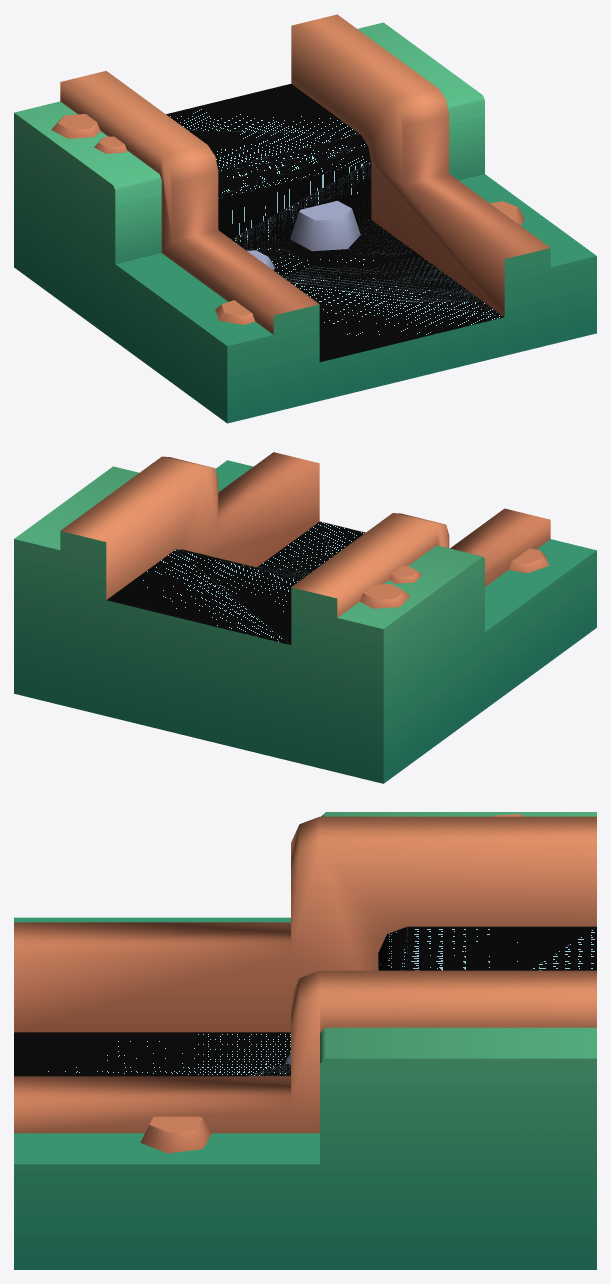
File: kenney-tower-defense-tile-river-waterfall.glb
3 views of the same model, one above another, from view 1: azimuth 30°, elevation 25°; view 2: azimuth 150°, elevation 25°; view 3: azimuth 270°, elevation 25° (orthographic). The views are drawn at different scales.
Parts seen in each view (by area): view 1: tile-river-waterfall; view 2: tile-river-waterfall; view 3: tile-river-waterfall.
Boxes of the visible parts, x1,y1,x2,y2 form: tile-river-waterfall: (14, 14, 596, 423); tile-river-waterfall: (14, 452, 596, 783); tile-river-waterfall: (14, 812, 596, 1269).
Size of the model in its own units: 1 by 0.45 by 1.
Materials: 1 (1 with a texture image).
